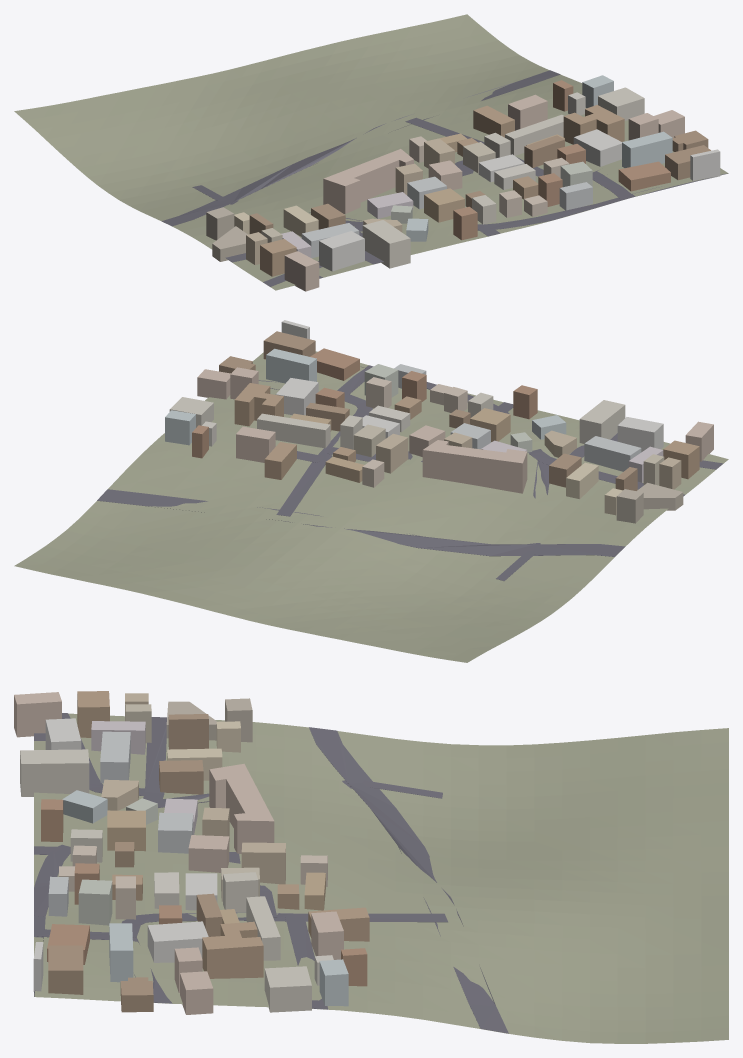
File: chunk_6_3.glb
3 views of the same model, one above another, from view 1: azimuth 30°, elevation 25°; view 2: azimuth 150°, elevation 25°; view 3: azimuth 270°, elevation 25° (orthographic). The views are drawn at different scales.
Parts seen in each view (by area): view 1: geometry_60, geometry_13, geometry_63, geometry_1, geometry_0, geometry_33, geometry_21, geometry_30, geometry_29, geometry_34, geometry_20, geometry_11 (+38 smaller); view 2: geometry_60, geometry_63, geometry_13, geometry_29, geometry_0, geometry_67, geometry_21, geometry_1, geometry_39, geometry_33, geometry_26, geometry_30 (+30 smaller); view 3: geometry_60, geometry_63, geometry_13, geometry_1, geometry_0, geometry_61, geometry_11, geometry_30, geometry_34, geometry_19, geometry_57, geometry_52 (+41 smaller).
Boxes of the visible parts, box(x1,y1,x2,y2) form: geometry_60: box(14, 14, 728, 290); geometry_13: box(323, 149, 413, 213); geometry_63: box(162, 70, 560, 226); geometry_1: box(362, 220, 410, 268); geometry_0: box(563, 105, 624, 144); geometry_33: box(319, 231, 364, 271); geometry_21: box(622, 131, 672, 167); geometry_30: box(573, 129, 621, 166); geometry_29: box(505, 114, 563, 155); geometry_34: box(284, 251, 319, 291); geometry_20: box(618, 161, 670, 191); geometry_11: box(598, 87, 644, 120); geometry_60: box(14, 351, 728, 662); geometry_63: box(97, 489, 625, 556); geometry_13: box(422, 440, 527, 493); geometry_29: box(257, 413, 330, 448); geometry_0: box(234, 383, 283, 426); geometry_67: box(276, 392, 372, 516); geometry_21: box(266, 348, 316, 383); geometry_1: box(579, 400, 625, 443); geometry_39: box(584, 436, 641, 471); geometry_33: box(617, 417, 663, 452); geometry_26: box(236, 426, 275, 462); geometry_30: box(275, 378, 318, 415); geometry_60: box(34, 713, 728, 1043); geometry_63: box(309, 727, 508, 1033); geometry_13: box(209, 763, 274, 853); geometry_1: box(20, 749, 89, 796); geometry_0: box(202, 921, 263, 978); geometry_61: box(34, 717, 166, 916); geometry_11: box(264, 966, 311, 1012); geometry_30: box(147, 921, 208, 962); geometry_34: box(14, 692, 61, 737); geometry_19: box(48, 945, 83, 994); geometry_57: box(241, 842, 285, 884); geometry_52: box(78, 879, 112, 925).
Bounding box in the file's own units: 260 × 31.61 × 257.
